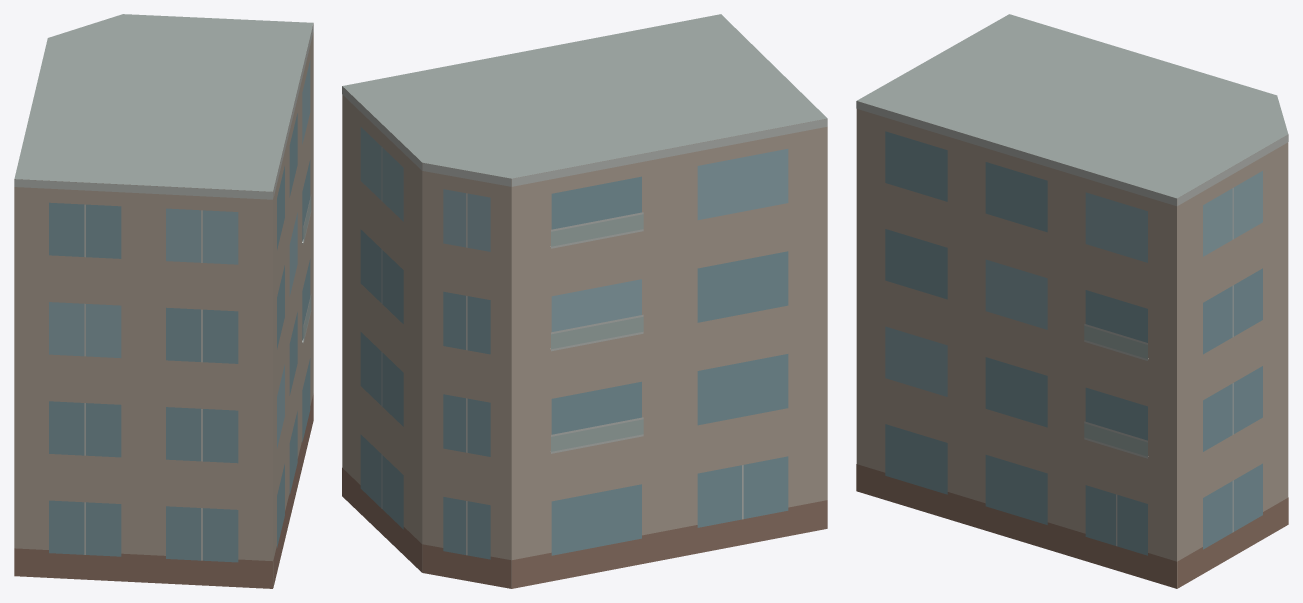
File: survey-upis-32605541.glb
The picture shows the model from 3 angles, left to right: view 1: azimuth 30°, elevation 25°; view 2: azimuth 150°, elevation 25°; view 3: azimuth 270°, elevation 25°; orthographic projection. The views are drawn at different scales.
Visible parts, largest first — view 1: survey-upis-32605541.tmp; view 2: survey-upis-32605541.tmp; view 3: survey-upis-32605541.tmp.
Boxes of the visible parts, x1,y1,x2,y2 form: survey-upis-32605541.tmp: (14,14,313,588); survey-upis-32605541.tmp: (342,14,827,588); survey-upis-32605541.tmp: (856,14,1288,588).
Bounding box in the file's own units: 12.32 × 12.15 × 12.19.
